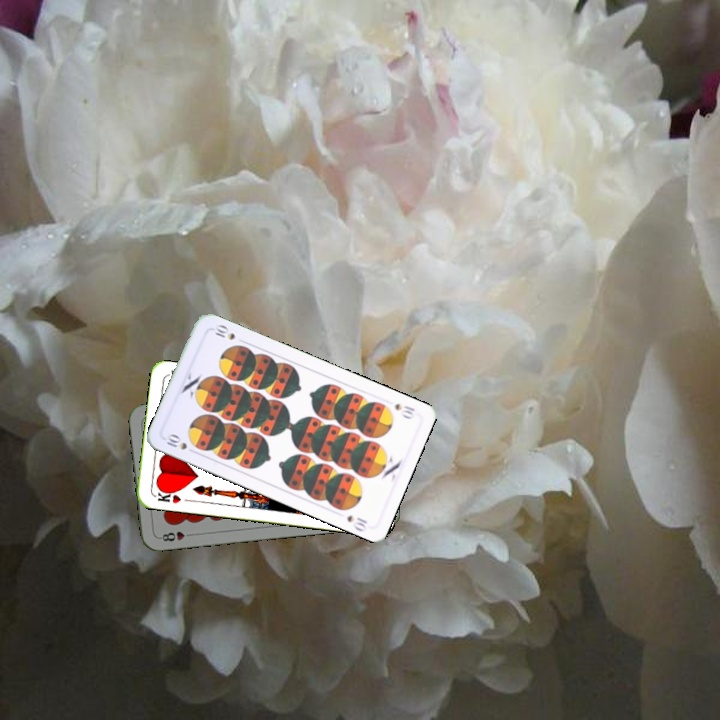H8: (156, 527, 196, 544)
HK: (153, 485, 183, 506)
S10: (162, 429, 201, 456), (391, 399, 417, 422)
